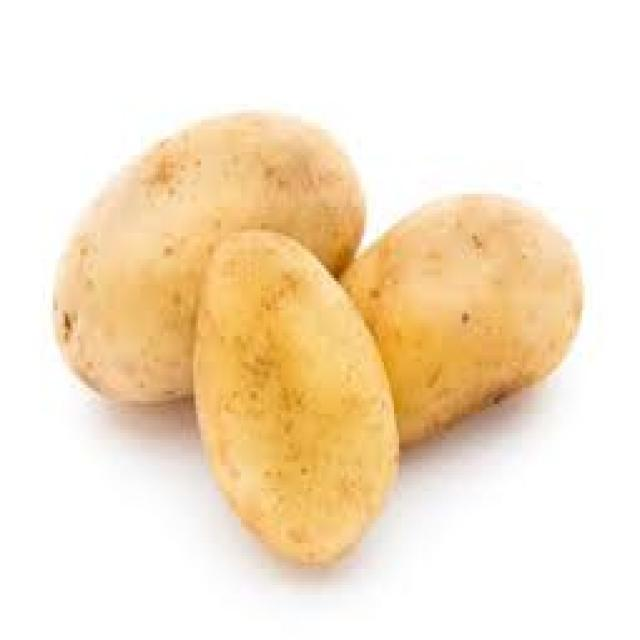Potato: (49, 111, 367, 407), (188, 229, 402, 571), (339, 194, 585, 452)
